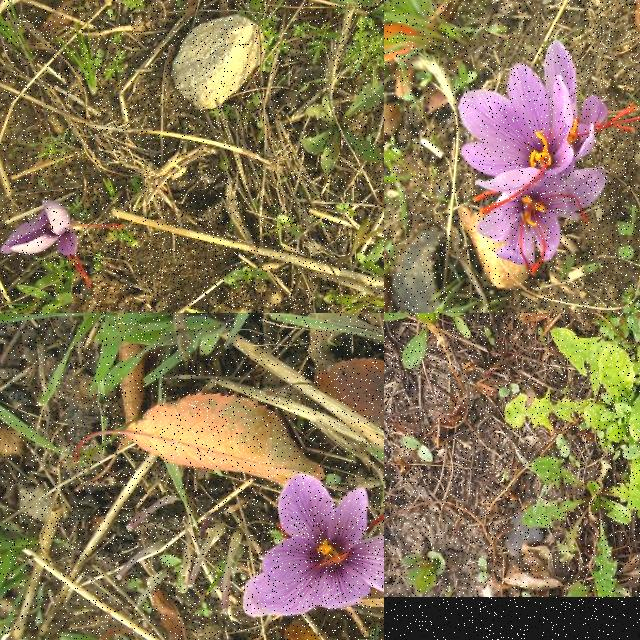flower: (242, 473, 384, 617), (2, 201, 122, 289)
overlap: (457, 40, 640, 276)
